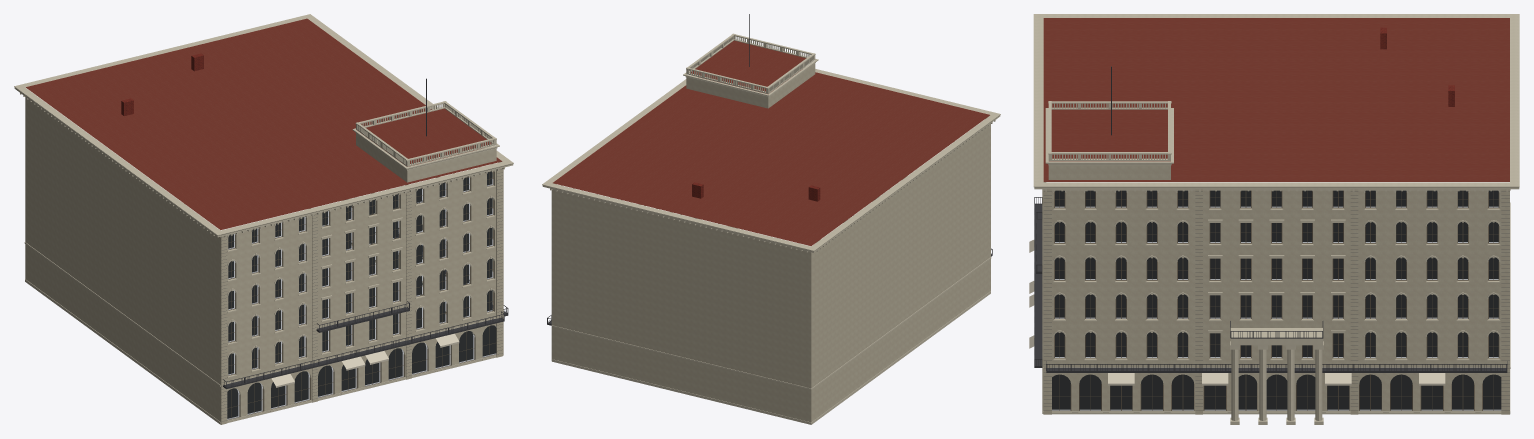
File: sherman_house_1871__sherman_1861_1871.glb
The picture shows the model from 3 angles, left to right: view 1: azimuth 30°, elevation 25°; view 2: azimuth 150°, elevation 25°; view 3: azimuth 270°, elevation 25°; orthographic projection. The views are drawn at different scales.
Parts seen in each view (by area): view 1: sherman_house_1871__sherman_1861_1871; view 2: sherman_house_1871__sherman_1861_1871; view 3: sherman_house_1871__sherman_1861_1871.
Part boxes in pixels (left/top/right/bottom): sherman_house_1871__sherman_1861_1871: left=14, top=14, right=513, bottom=424; sherman_house_1871__sherman_1861_1871: left=542, top=14, right=1000, bottom=424; sherman_house_1871__sherman_1861_1871: left=1029, top=14, right=1519, bottom=424.
Size of the model in its own units: 49.95 by 41.5 by 57.72.
Materials: 10 (4 with a texture image).
